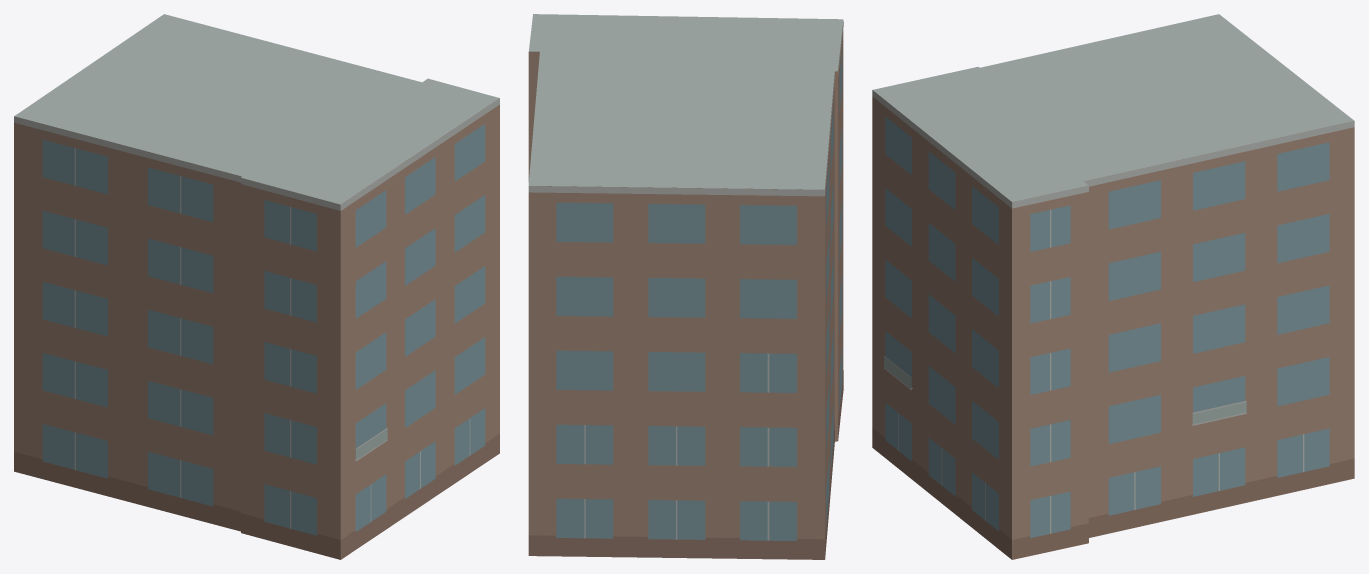
Rendered from survey-upis-32763858.glb.
The picture shows the model from 3 angles, left to right: view 1: azimuth 30°, elevation 25°; view 2: azimuth 150°, elevation 25°; view 3: azimuth 270°, elevation 25°; orthographic projection. The views are drawn at different scales.
Visible parts, largest first — view 1: survey-upis-32763858.tmp; view 2: survey-upis-32763858.tmp; view 3: survey-upis-32763858.tmp.
Part boxes in pixels (x1,y1,x2,y2): survey-upis-32763858.tmp: (14, 14, 499, 559); survey-upis-32763858.tmp: (528, 14, 843, 559); survey-upis-32763858.tmp: (872, 14, 1354, 559).
Bounding box in the file's own units: 15.35 × 13.6 × 16.62.
